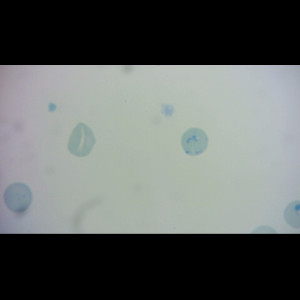aggregate reticulocyte: (179, 126, 210, 157)
erythrocyte: (66, 121, 97, 158)
punctate reticulocyte: (2, 181, 34, 214)
